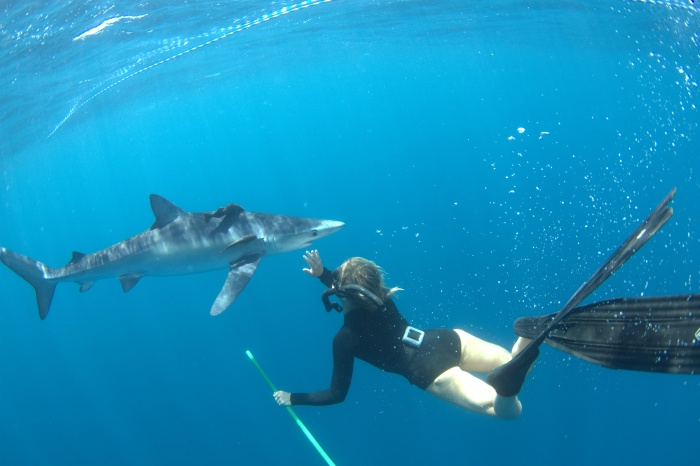Azul: (2, 181, 362, 335)
